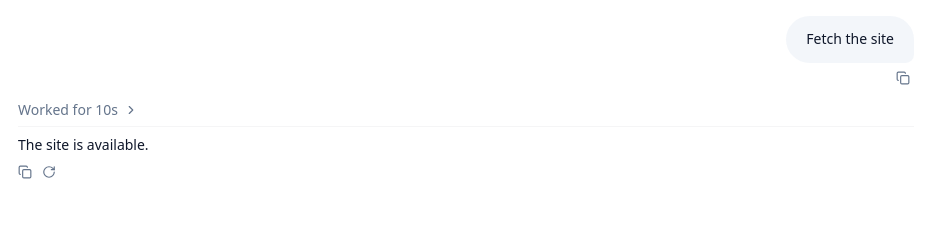
it: ChatArea › keeps completed final reasoning and empty tool placeholders inside the work disclosure
The width and height of the screenshot is (933, 240).
Expected: the text "Thought for 6s" is not shown
Expected: the text "The site is available." is shown, [18, 135, 149, 154]
Click the button "Worked for 10s". click: x=68, y=110
box: [18, 95, 914, 127]
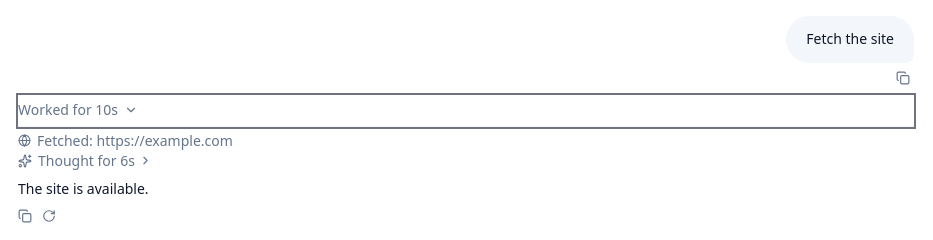
Expected: the text "Thought for 6s" is shown, [38, 151, 135, 171]
